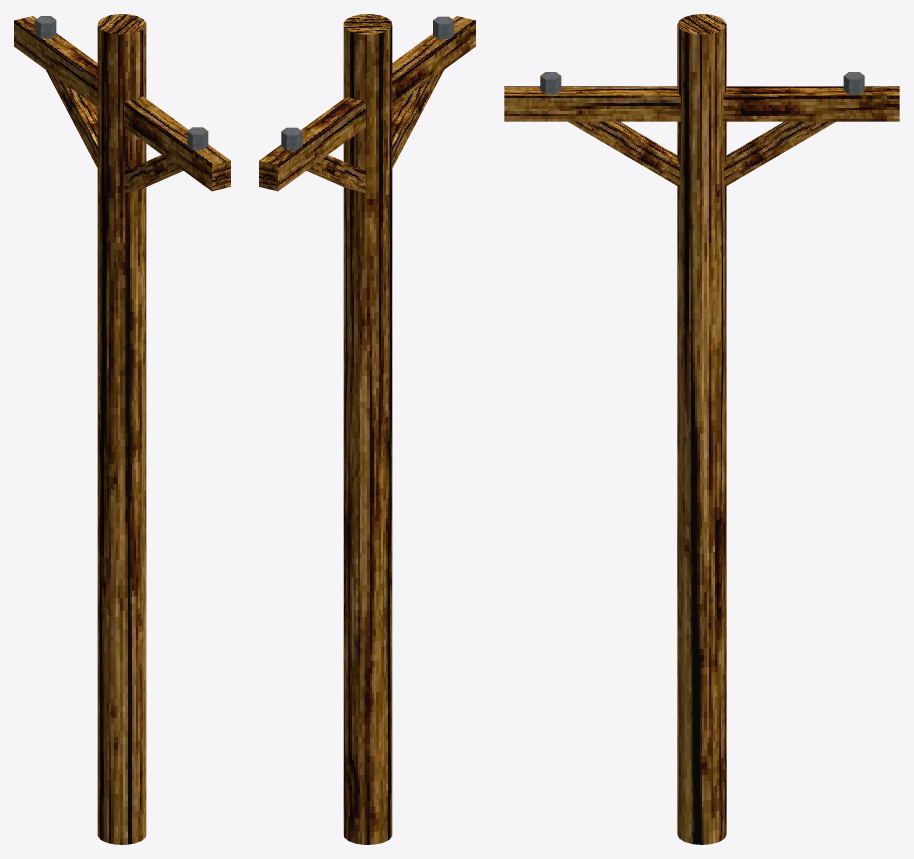
The model's file is utilitypole.glb.
3 views of the same model, side by side, from view 1: azimuth 30°, elevation 25°; view 2: azimuth 150°, elevation 25°; view 3: azimuth 270°, elevation 25° (orthographic).
Visible parts, largest first — view 1: UtilityPole; view 2: UtilityPole; view 3: UtilityPole.
Part boxes in pixels (x1,y1,x2,y2): UtilityPole: (14, 14, 230, 844); UtilityPole: (259, 14, 475, 844); UtilityPole: (504, 14, 899, 844).
Bounding box in the file's own units: 0.1516 × 2.76 × 1.22.
1 material, 1 textured.
